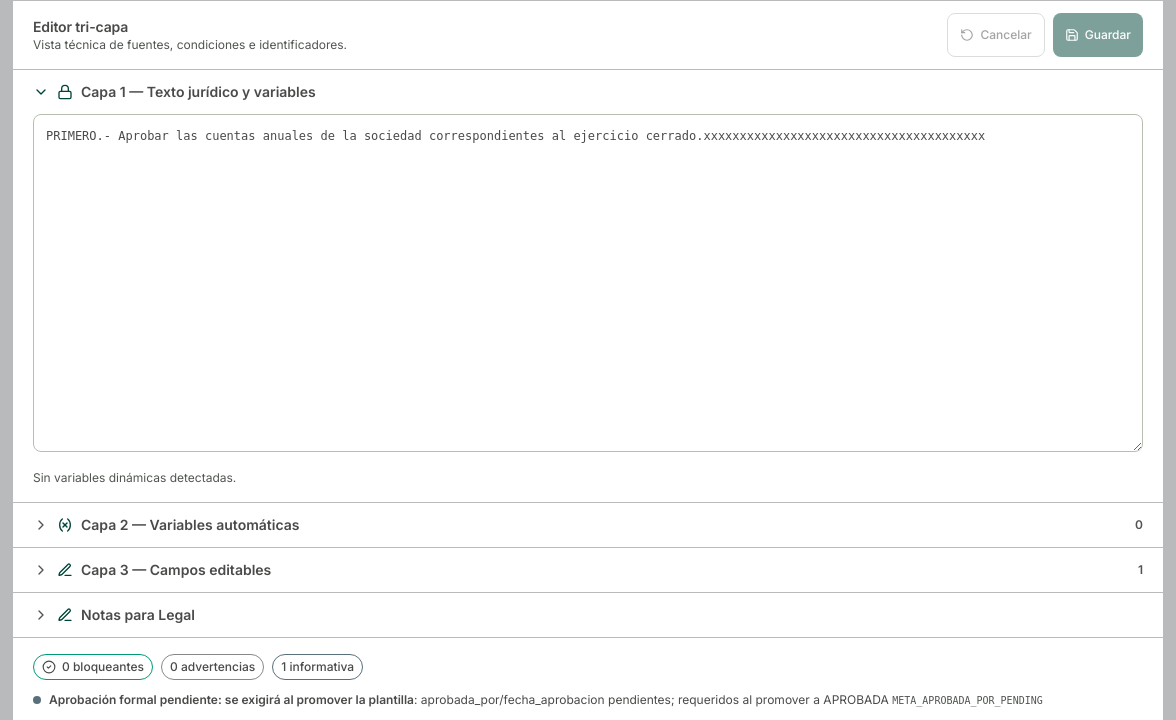
Test: TriCapaEditor › conserva en solo lectura defaults y opciones con tipos no textuales
This screenshot has width=1176, height=720.
What coordinates should you click on to do the following:
click the button "Capa 3 — Campos editables 1"
I would click on:
 (176, 570)
Its box is [13,548,1163,592].
(page scrolled)
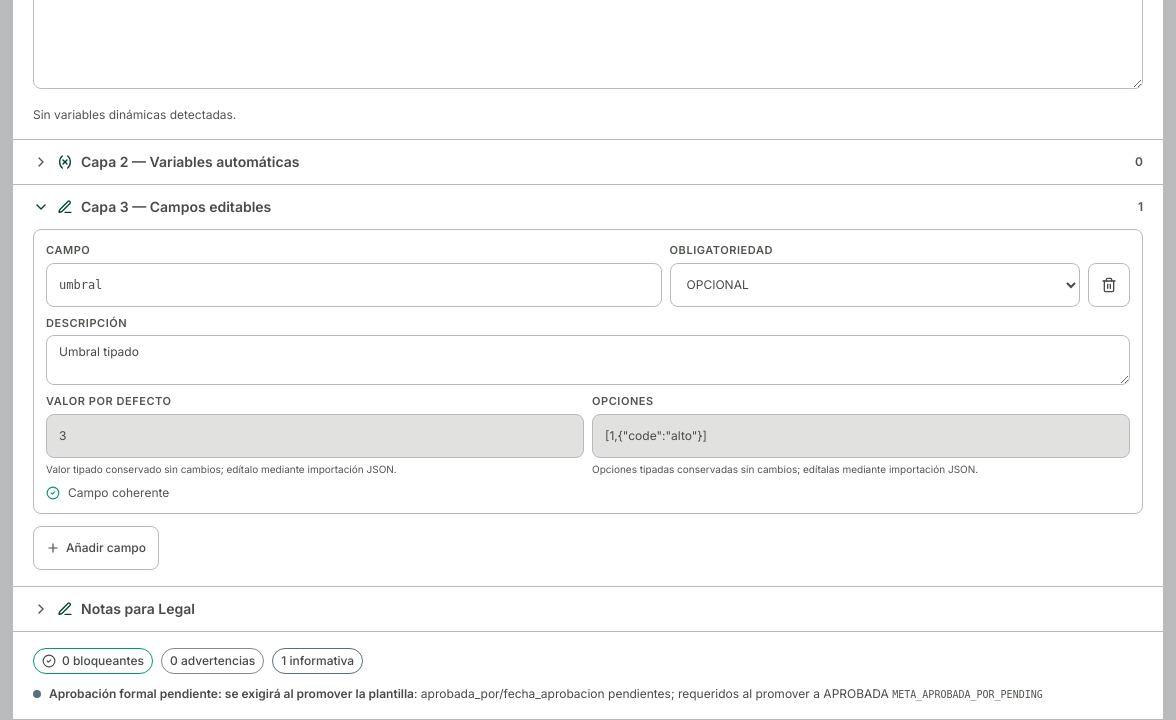
Result: the field named "Default capa 3 1" holds "3" at [46,414,584,458]
Result: the field named "Opciones capa 3 1" holds "[1,{\"code\":\"alto\"}]" at [592,414,1130,458]
Result: the text "Valor tipado conservado sin cambios" is shown at [46,462,397,474]
